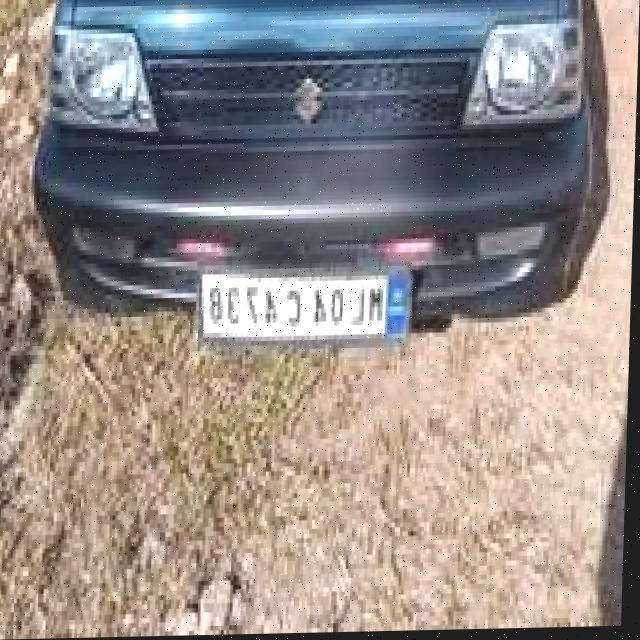plate: (197, 262, 414, 349)
